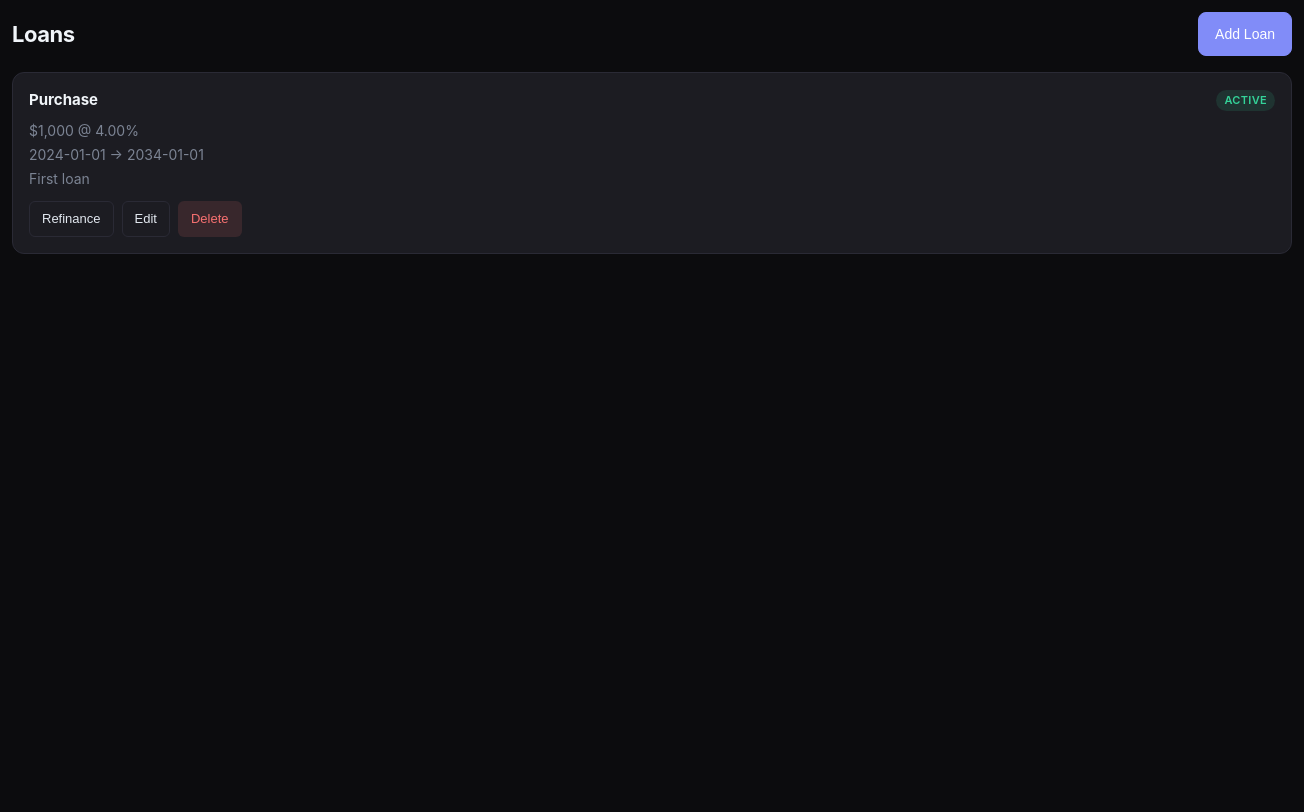
Test case: LoansPage › opens refinance form pre-filled from original loan
Expected: the text "Purchase" is shown, left=29, top=89, right=98, bottom=112
Click the button "Refinance": (71, 219) left=29, top=201, right=114, bottom=237
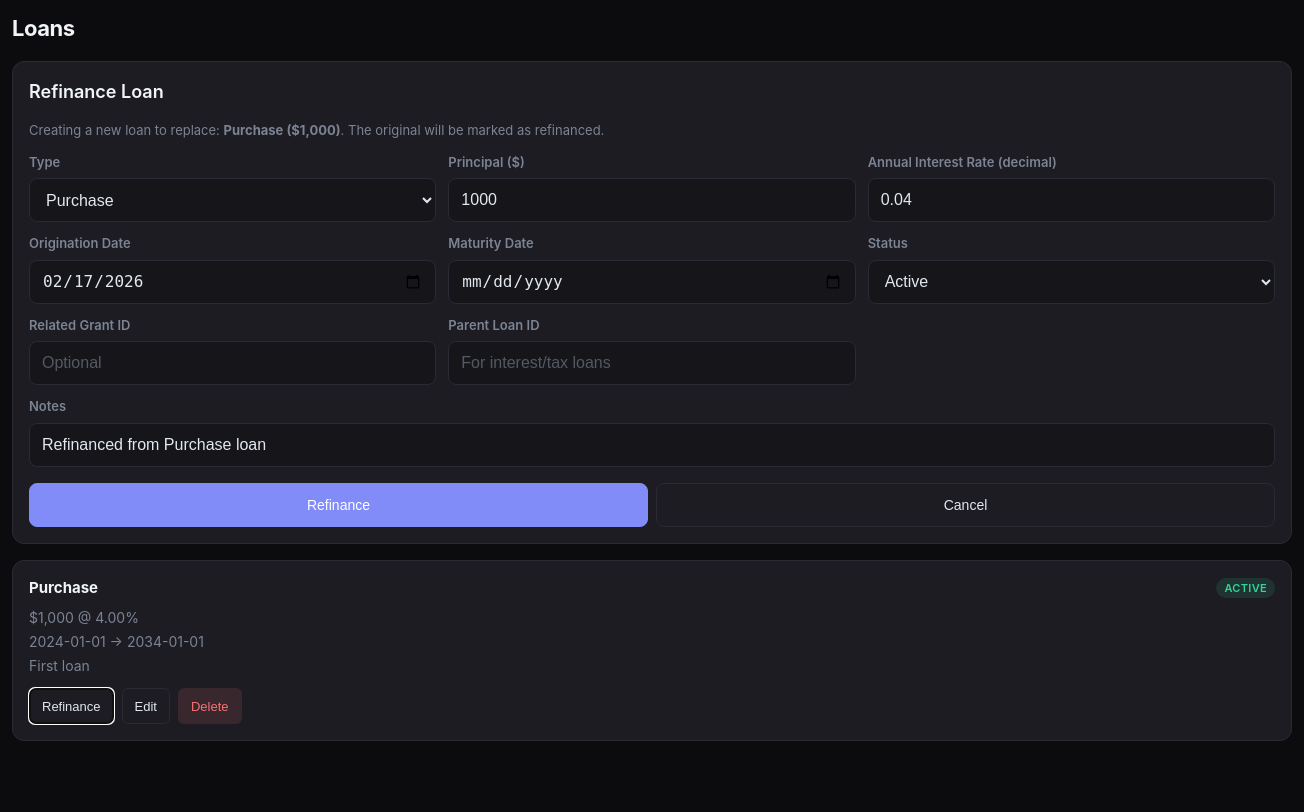
Expected: the heading "Refinance Loan" is shown, left=29, top=81, right=164, bottom=102
Expected: the text "Creating a new loan to replace" is shown, left=29, top=122, right=224, bottom=138
Expected: the number field labelled "Principal ($)" holds "1000", left=448, top=178, right=856, bottom=222
